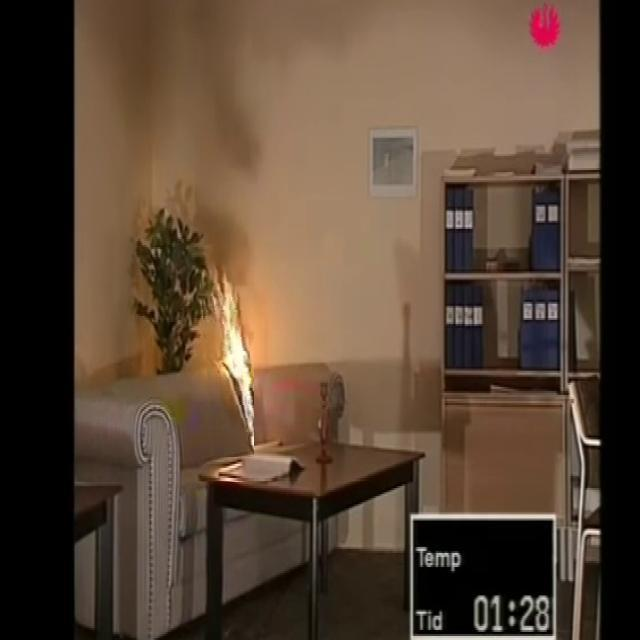fire: (210, 262, 253, 456)
smoke: (183, 2, 264, 263)
